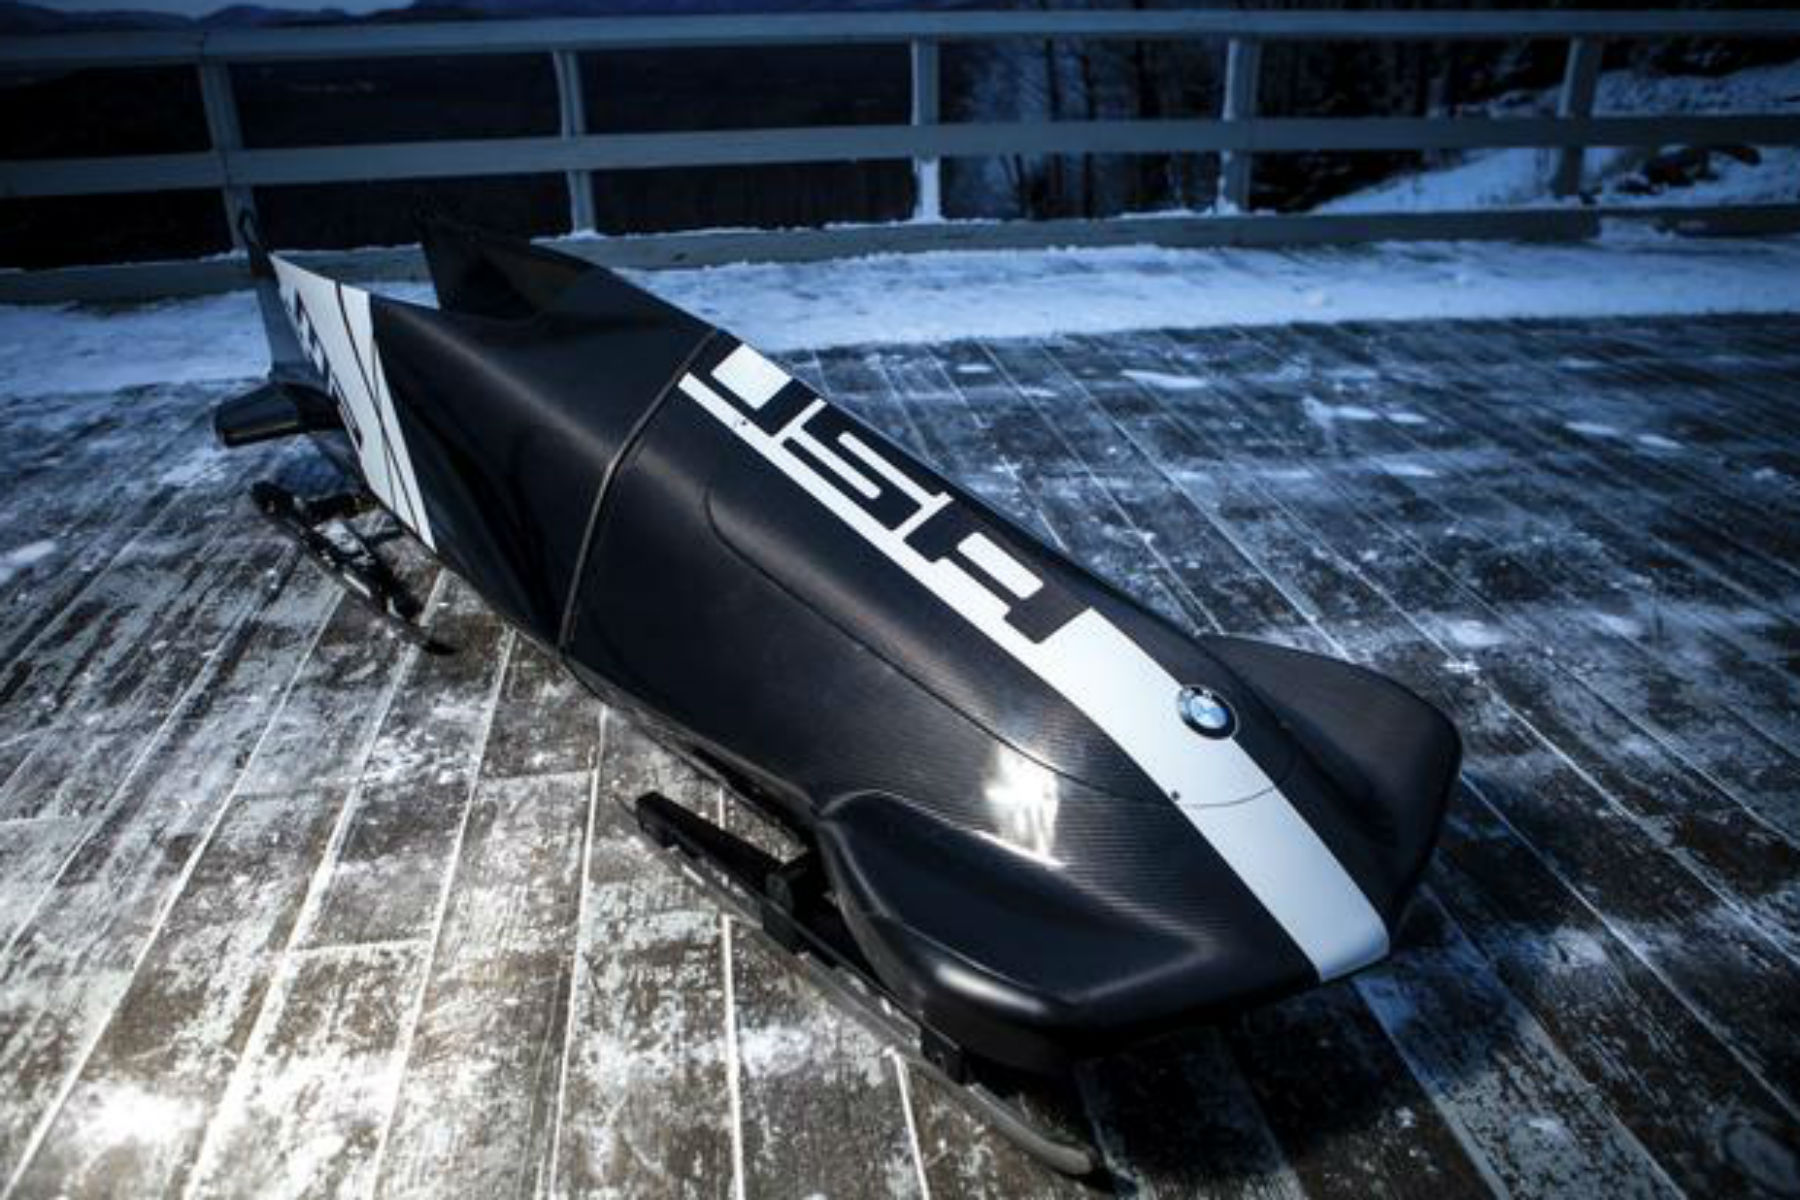Bobsleigh: (232, 228, 1471, 1079)
